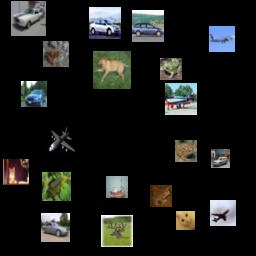airplane: (44, 125, 76, 157), (165, 83, 197, 115), (209, 26, 235, 52), (210, 200, 236, 226)
automobile: (11, 1, 46, 36), (132, 10, 164, 42), (89, 7, 121, 39), (41, 213, 70, 242), (21, 81, 47, 107), (211, 149, 230, 168)
cat: (3, 159, 29, 185), (176, 211, 195, 230)
deer: (101, 215, 133, 247)
dog: (93, 51, 131, 89)
frog: (42, 172, 71, 201), (43, 41, 69, 67), (150, 185, 172, 207), (175, 140, 197, 162), (160, 58, 182, 80)
ship: (106, 176, 128, 198)
